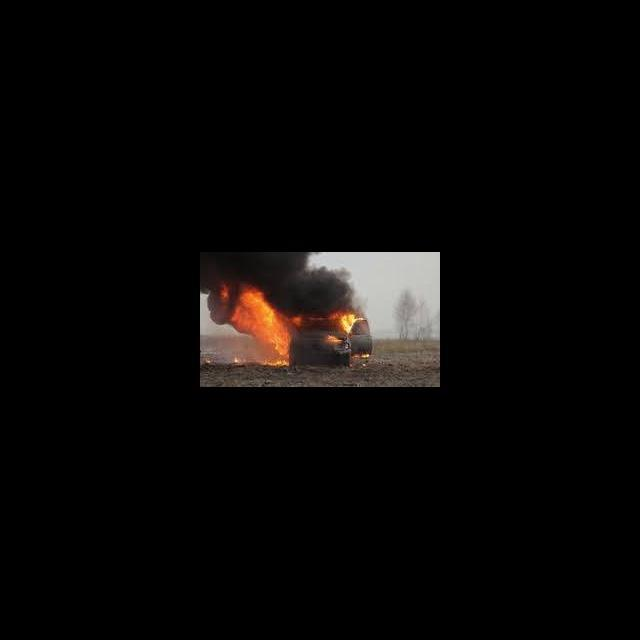Fire: (231, 285, 290, 357), (342, 314, 363, 332), (264, 358, 288, 368), (221, 286, 231, 302), (293, 316, 305, 326), (328, 335, 340, 342), (232, 358, 241, 362), (206, 361, 210, 365)
Smoke: (200, 253, 361, 329)
